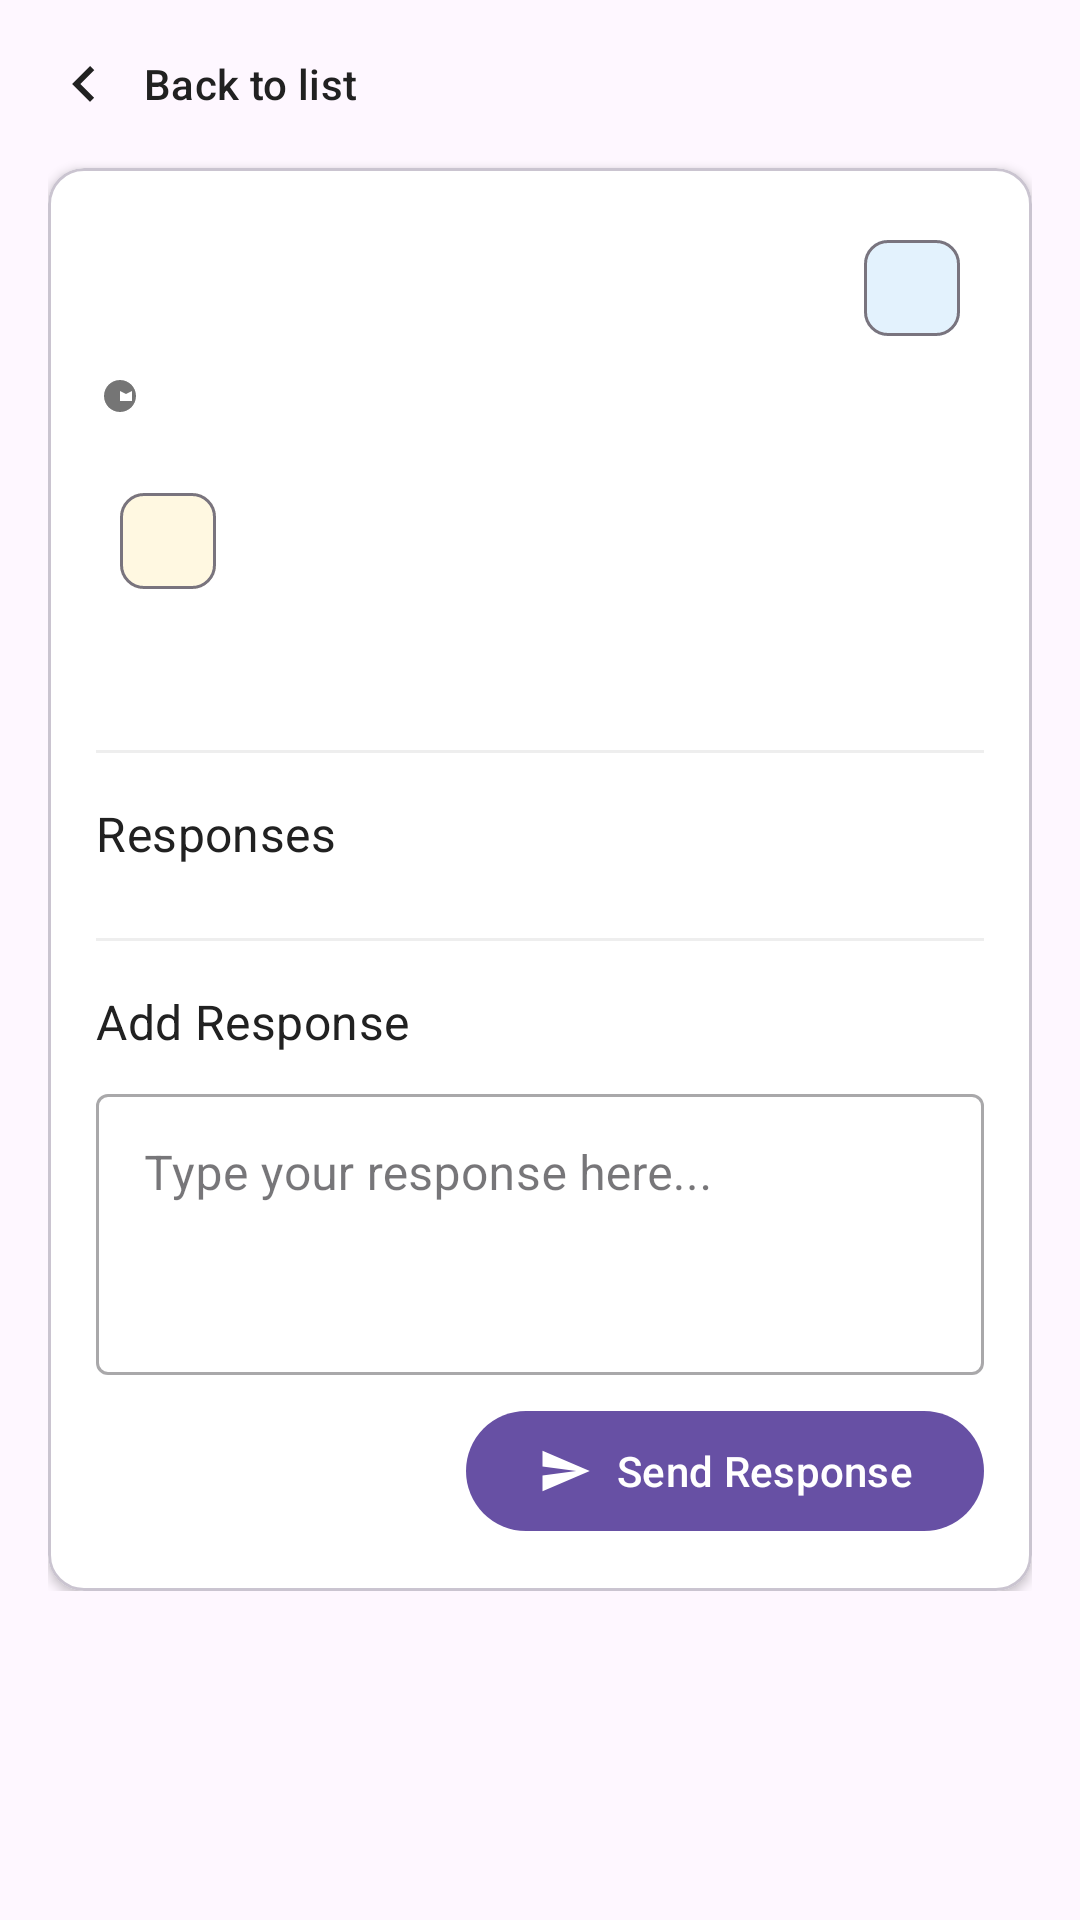

Where icons sit on this 1080×1920 app screen, as {"x1": x1, "y1": y1, "x2": x2, "y2": y2}:
chevron left: {"x1": 72, "y1": 66, "x2": 94, "y2": 102}
